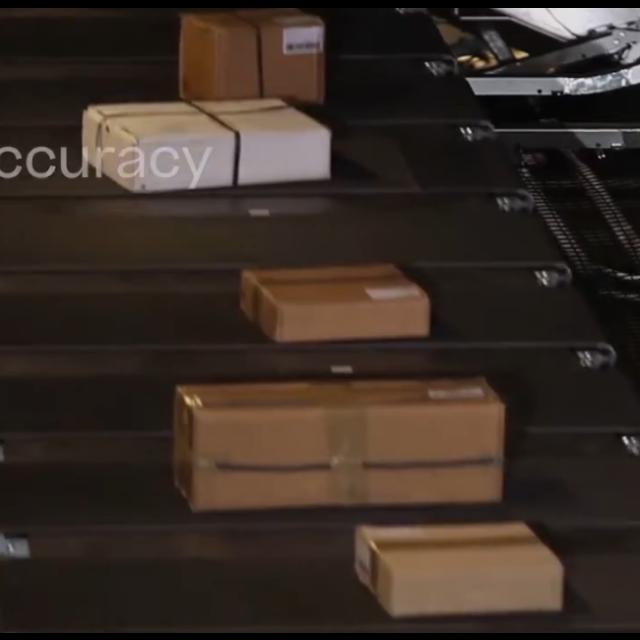box: (172, 376, 503, 502), (82, 99, 334, 190), (359, 524, 565, 614), (241, 260, 431, 338), (174, 12, 330, 106)
